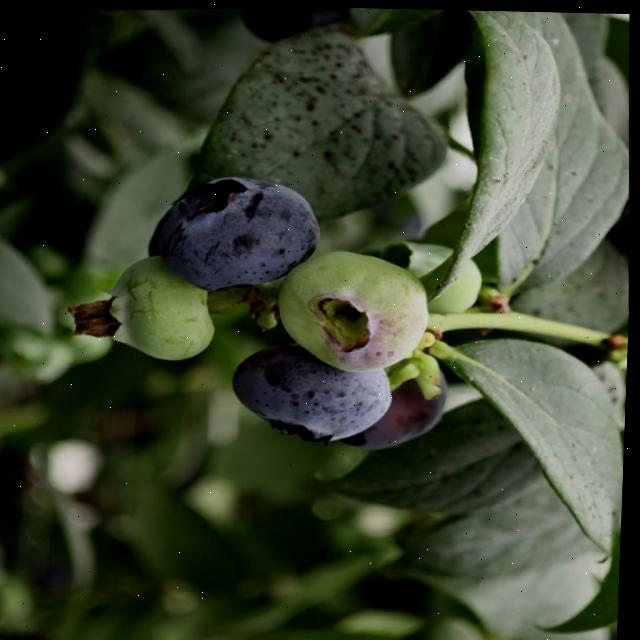RipeBlueBerry: (146, 167, 328, 297), (229, 338, 399, 448)
UnripeBlueBerry: (272, 241, 436, 376), (94, 250, 224, 365)
